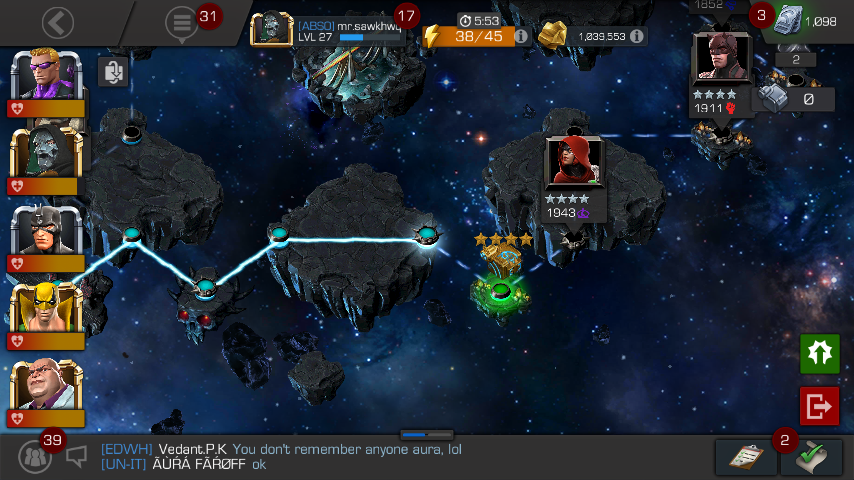green: (491, 283, 511, 300)
